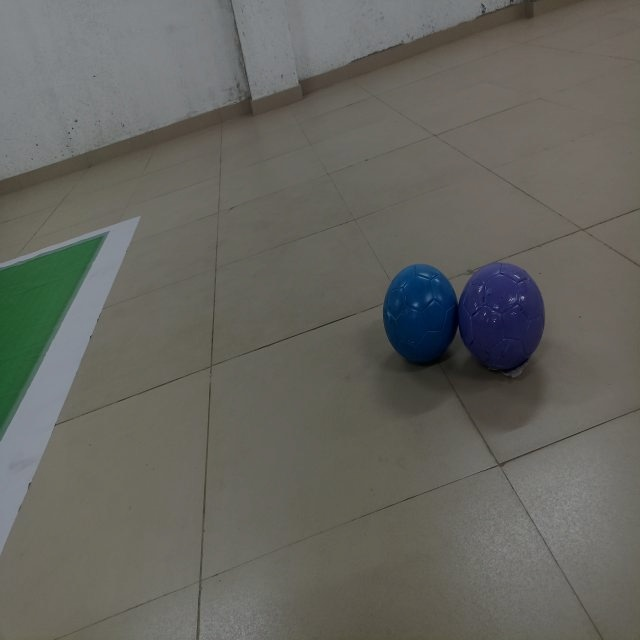blue_ball: (363, 246, 454, 374)
purple_ball: (457, 251, 555, 380)
